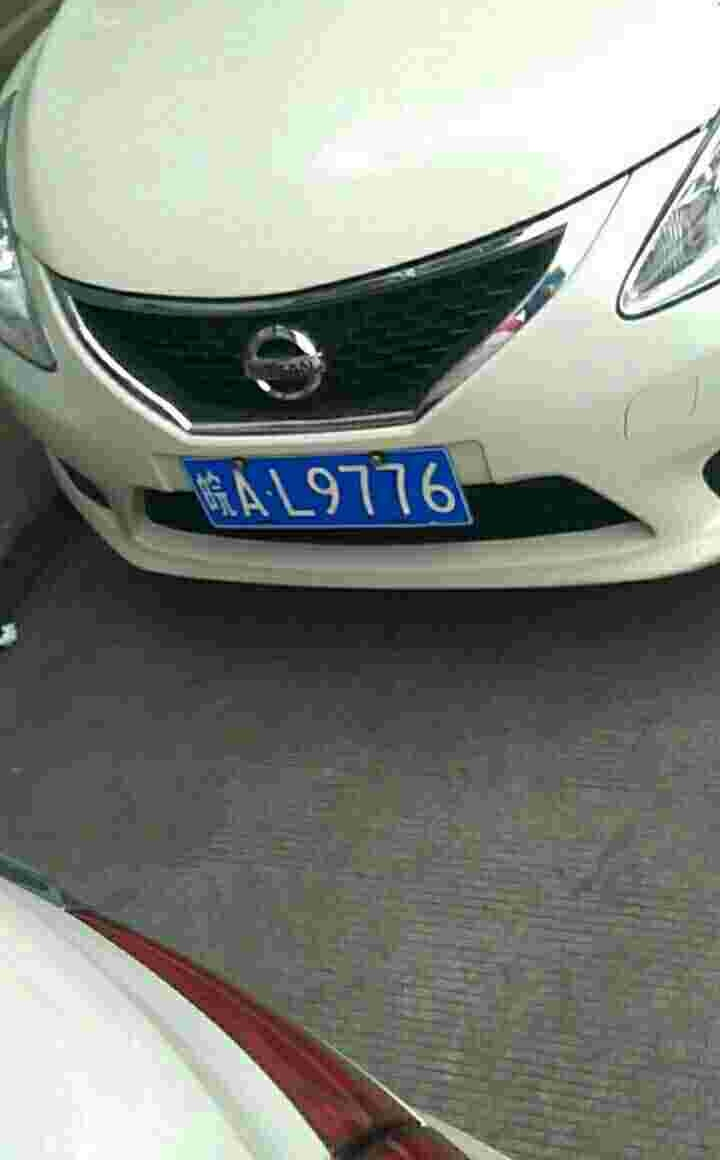license_plate: (183, 443, 466, 537)
